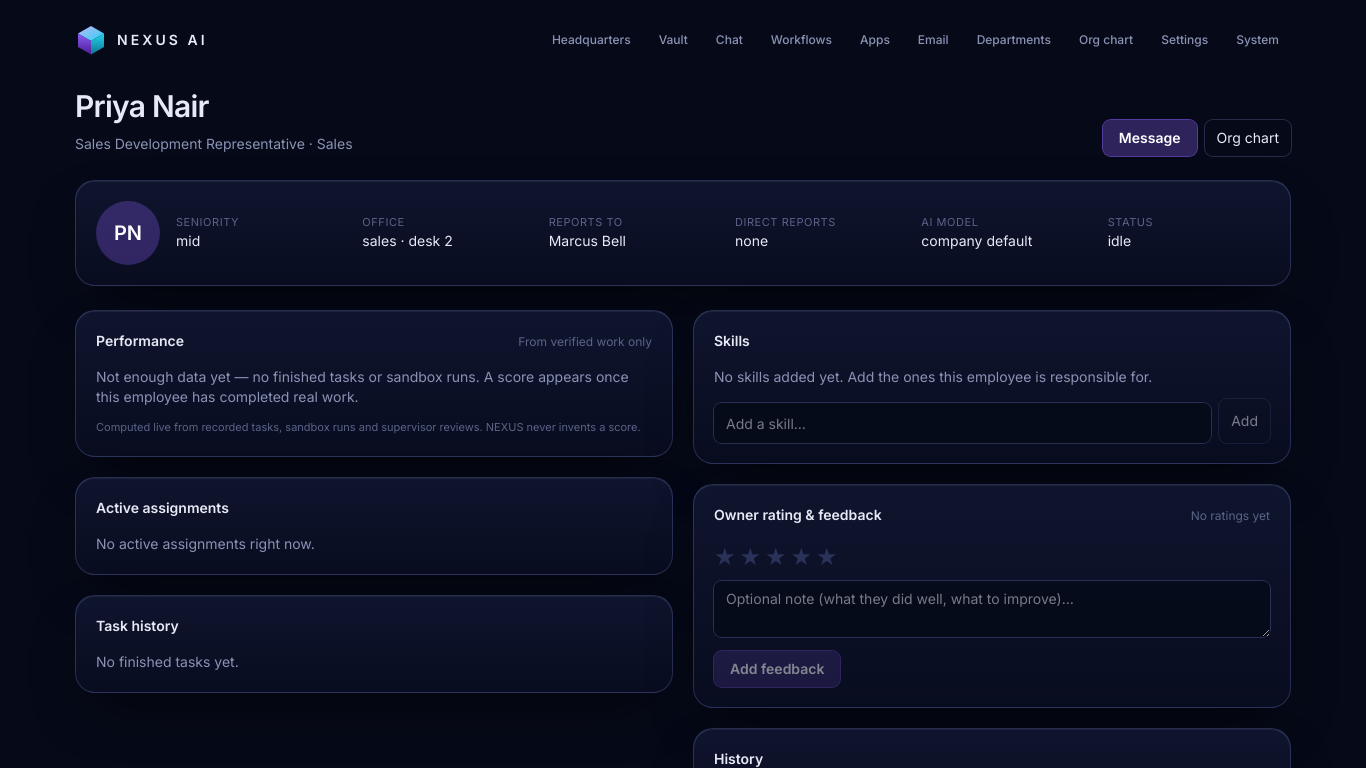
Test: ProfilePage › adds a rating and keeps it in the history
Click the radio button named "4 stars". click: (801, 557)
box: [790, 541, 812, 573]
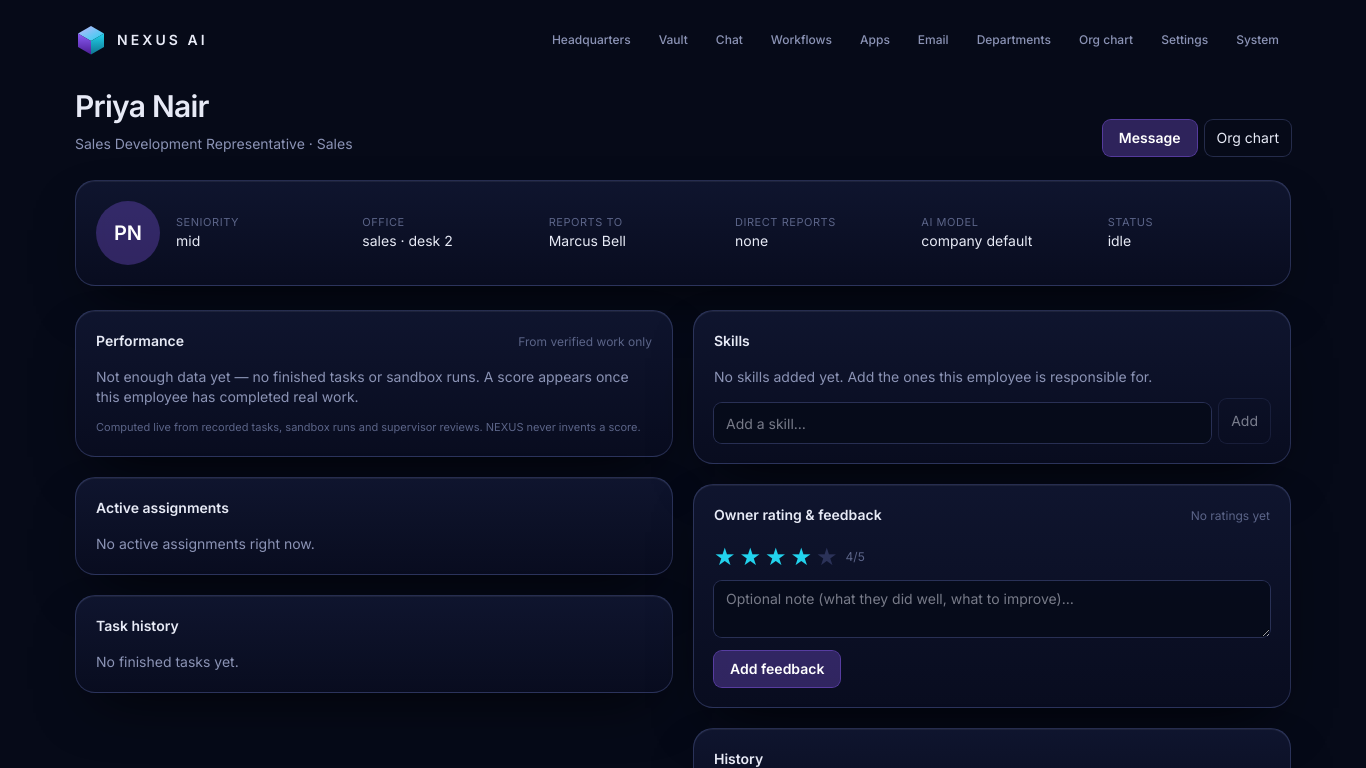
Type "Great" into the text box named "Feedback note". click: (992, 609)
box: [714, 581, 1270, 637]
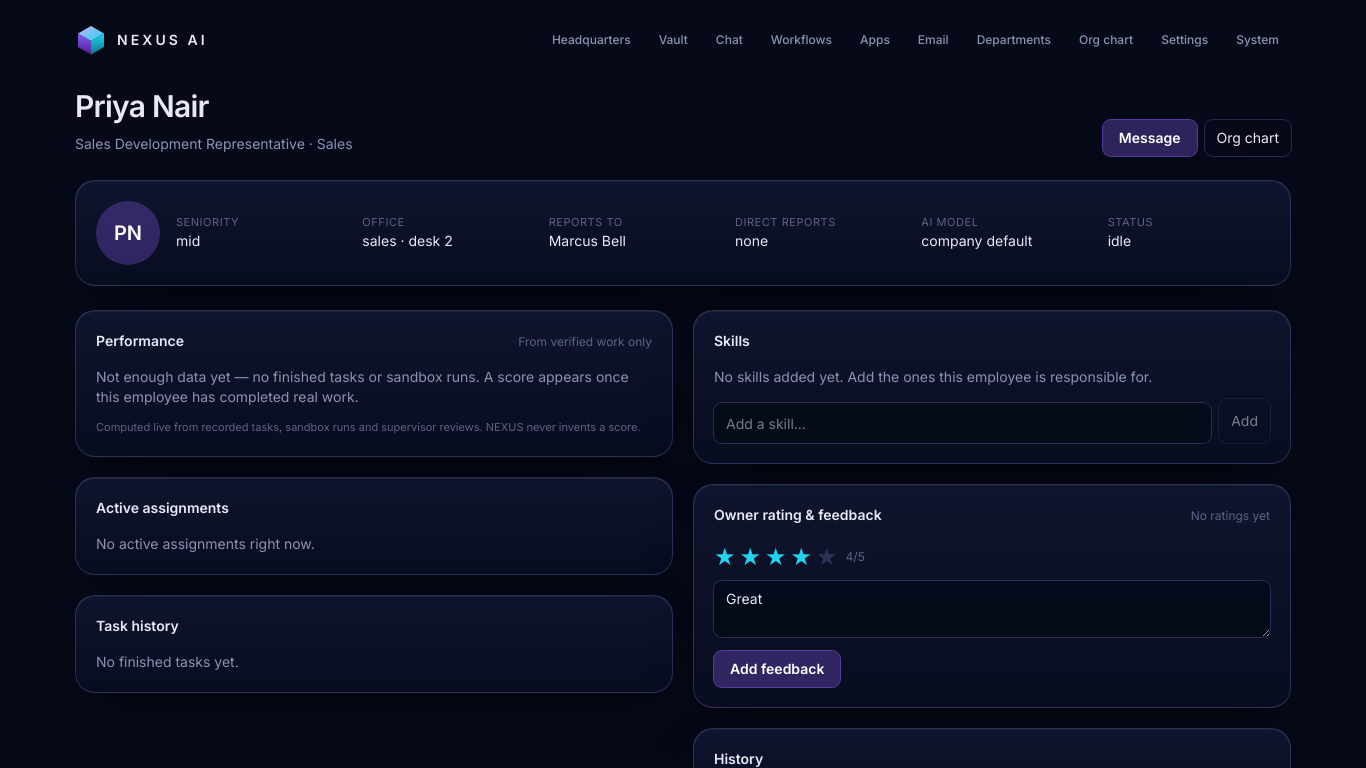
Click the button "Add feedback". click: (777, 669)
box: [714, 651, 840, 687]
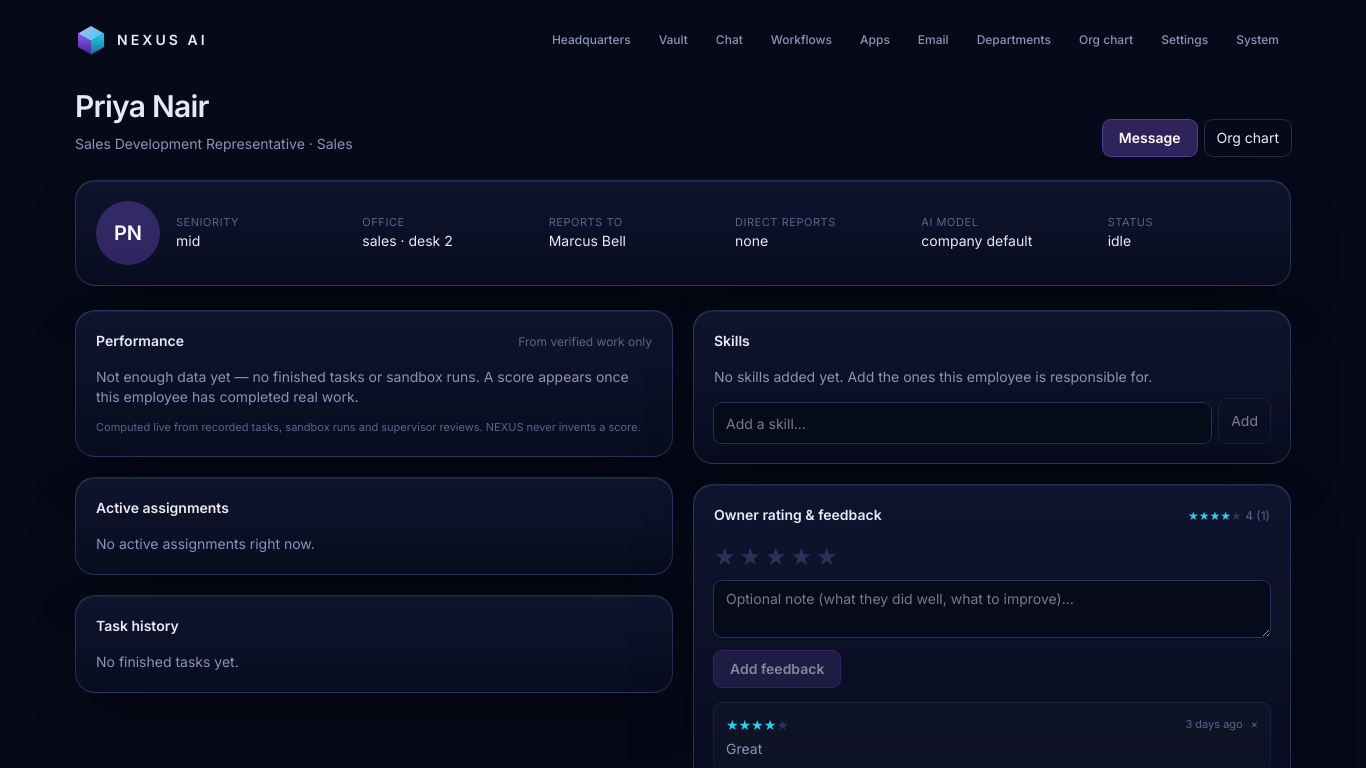
Expected: the text "Great" is shown, [726, 740, 762, 757]
